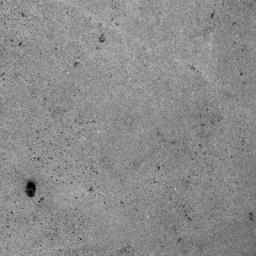FOD: (23, 177, 38, 201)
